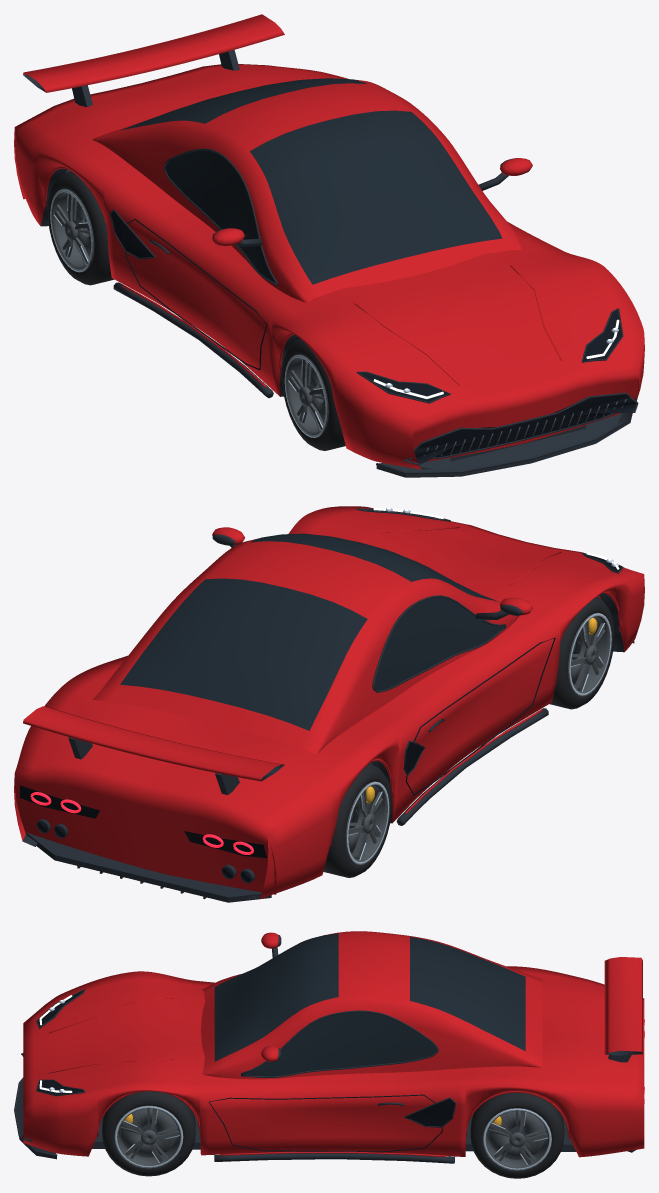
File: Ferrari.glb
3 renders of one model, top to bottom at view 1: azimuth 30°, elevation 25°; view 2: azimuth 150°, elevation 25°; view 3: azimuth 270°, elevation 25°, orthographic. The views are drawn at different scales.
Parts seen in each view (by area): view 1: Ferrari_Body, Wheel_Rear_L, Wheel_Front_L; view 2: Ferrari_Body, Wheel_Rear_L, Wheel_Front_L; view 3: Ferrari_Body, Wheel_Rear_R, Wheel_Front_R.
Part boxes in pixels (x1,y1,x2,y2): Ferrari_Body: (14,14,644,477); Wheel_Rear_L: (47,171,114,285); Wheel_Front_L: (282,338,345,450); Ferrari_Body: (14,506,644,902); Wheel_Rear_L: (323,764,392,877); Wheel_Front_L: (549,597,614,709); Ferrari_Body: (14,931,644,1163); Wheel_Rear_R: (470,1092,564,1178); Wheel_Front_R: (102,1091,195,1176).
Bounding box in the file's own units: 2.13 × 1.34 × 4.52.
